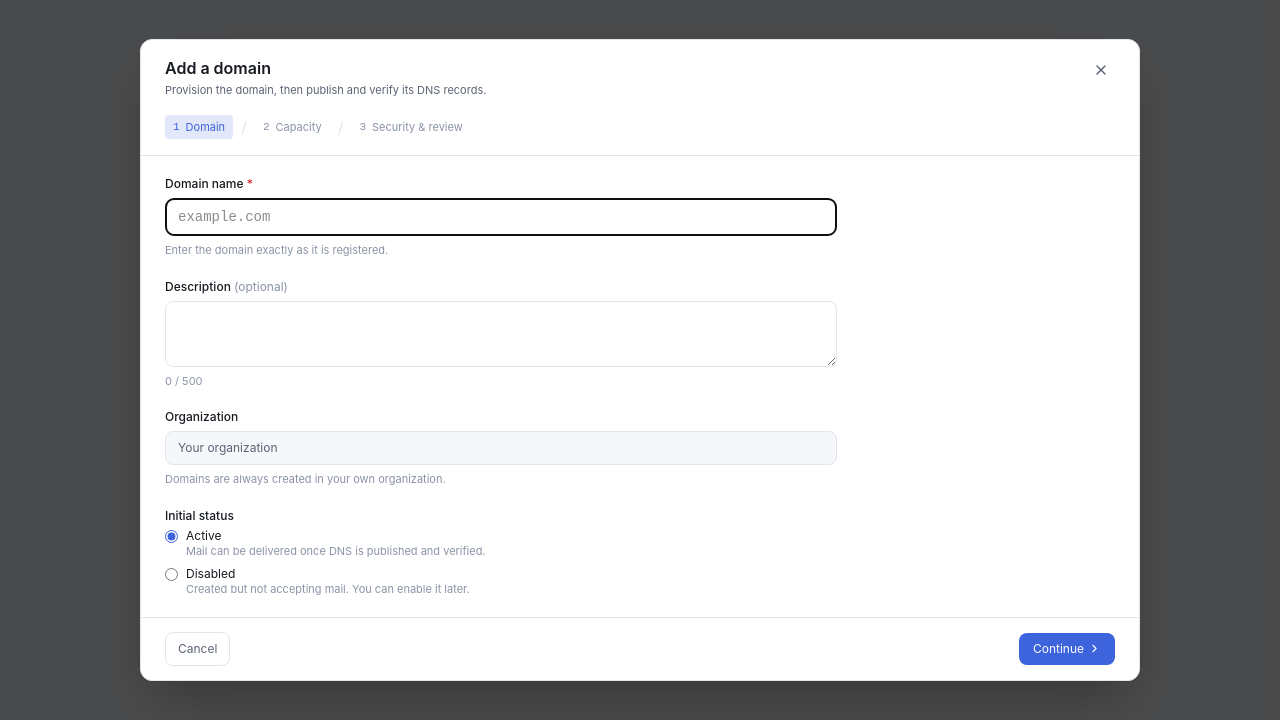
Scenario: stage navigation › blocks Continue while the name is invalid
Type "not a domain" into the field labelled "Domain name *" at (501, 217), box [165,198,837,236]
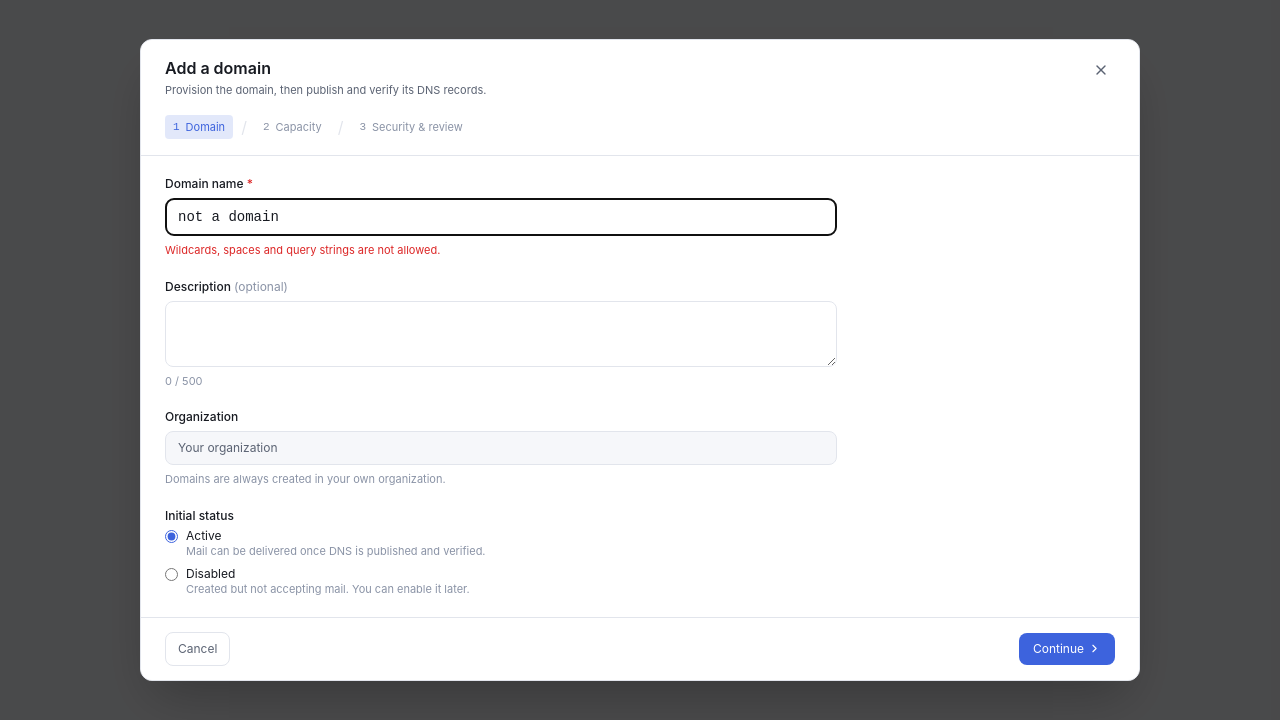
Click the button "Continue" at (1067, 649), box [1019,633,1115,665]
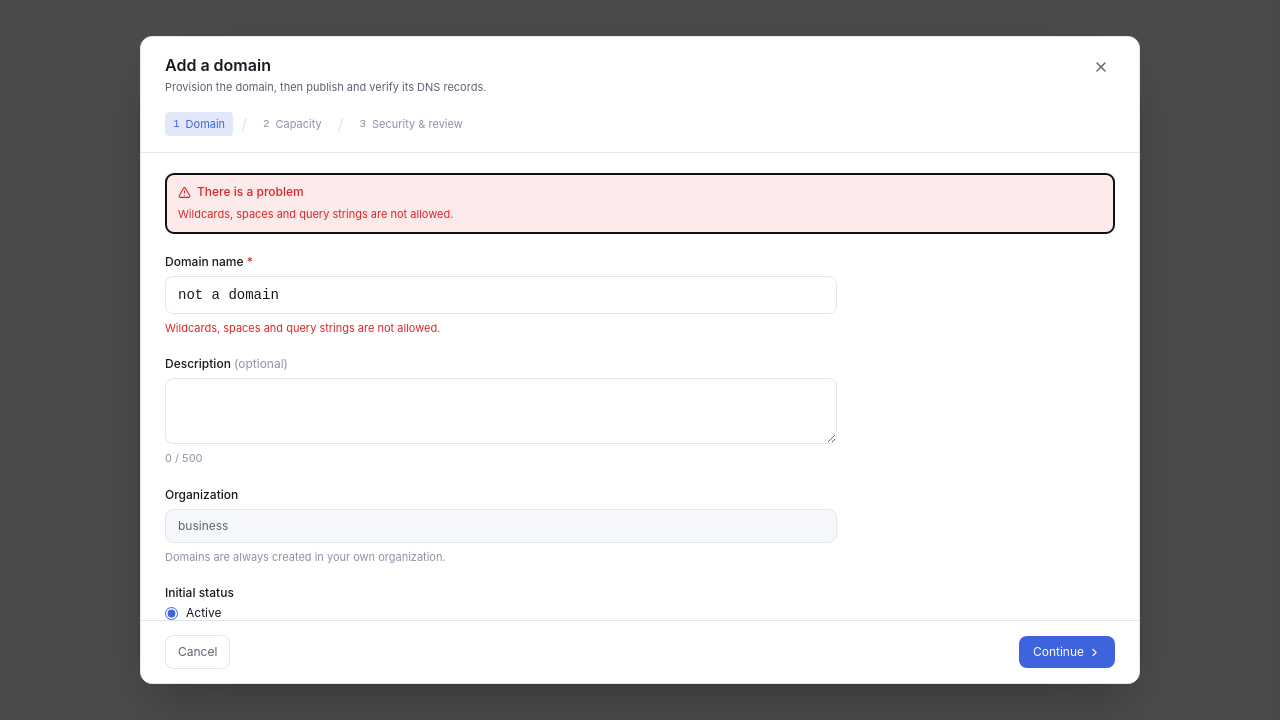
expect the message "There is a problem Wildcards, spaces and query strings are not allowed." is shown: met, box [165,173,1115,234]
